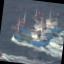fishing boat: (7, 23, 52, 50), (31, 1, 64, 36)
